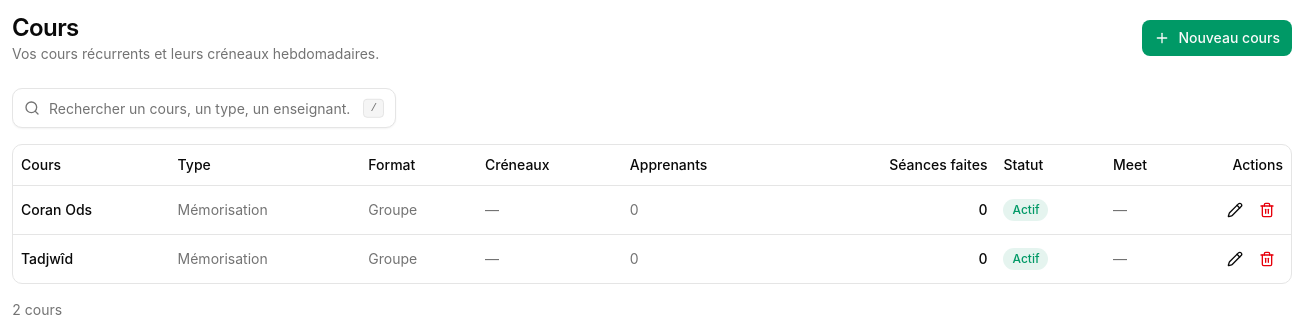
CoursPage — recherche › retrouve les cours d’un enseignant par son nom, sans accents
Type "fatou" into the search field labelled "Rechercher un cours" at point(204, 108), box [12,88,396,128]
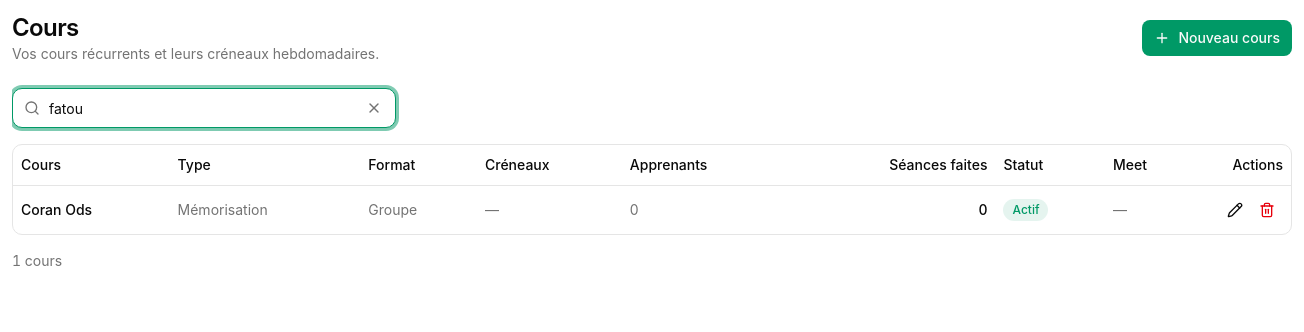
Check: the button "Coran Ods" is shown, box [21,200,92,220]
Check: the button "Tadjwîd" is gone
